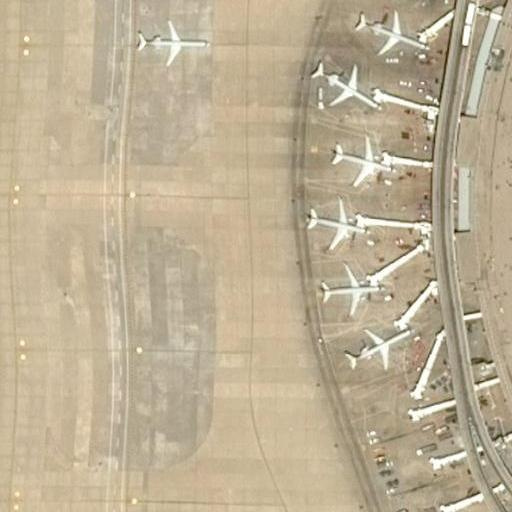Aircraft: (352, 8, 434, 59), (310, 58, 381, 115), (341, 323, 416, 374), (325, 138, 402, 186), (301, 196, 372, 247), (310, 265, 383, 312), (138, 19, 205, 66), (367, 0, 450, 1)
